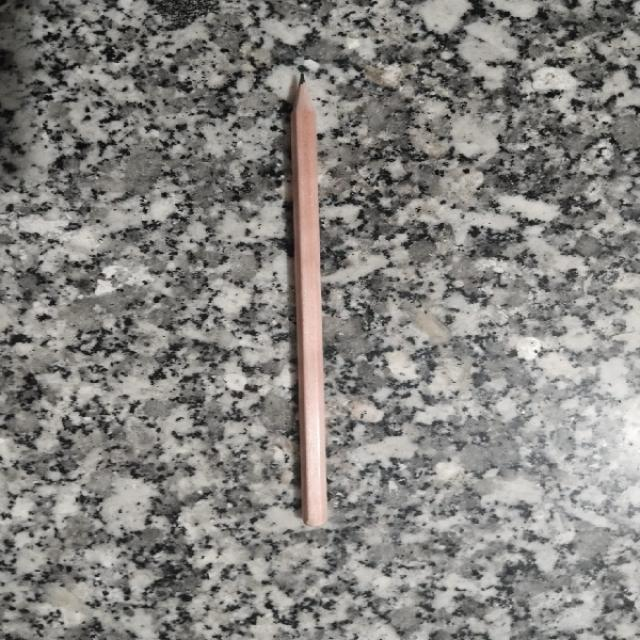pencil: (292, 76, 327, 525)
